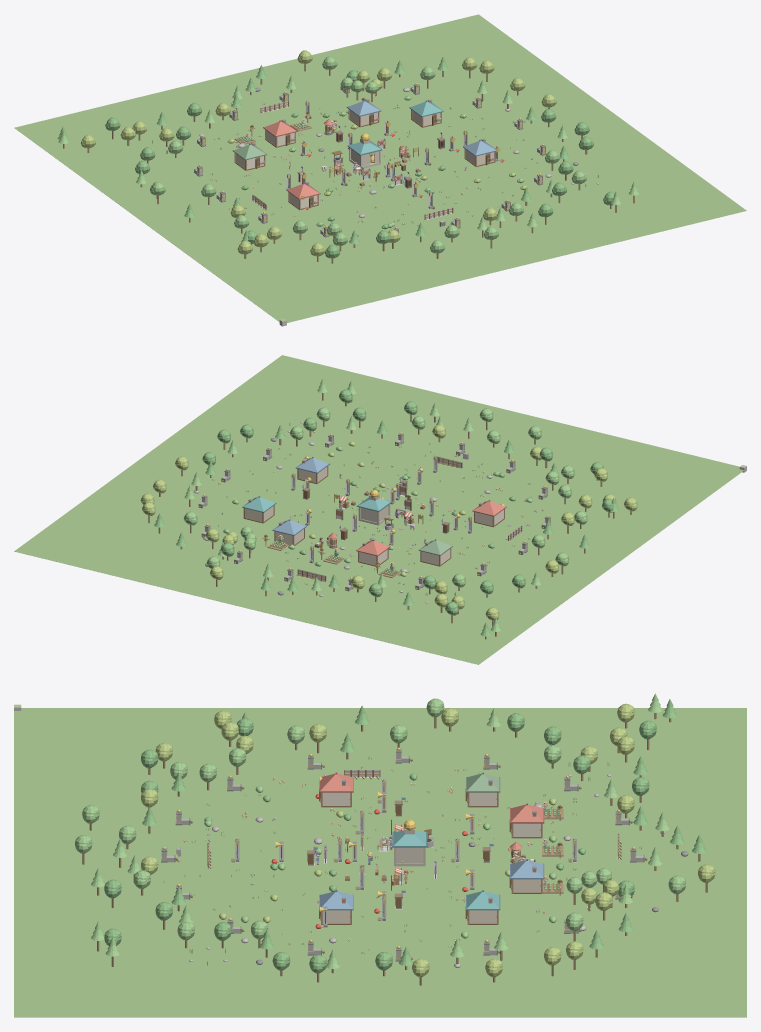
File: village.glb
The picture shows the model from 3 angles, top to bottom: view 1: azimuth 30°, elevation 25°; view 2: azimuth 150°, elevation 25°; view 3: azimuth 270°, elevation 25°; orthographic projection. The views are drawn at different scales.
Parts seen in each view (by area): view 1: ground, decor_props_merged; view 2: ground, decor_props_merged; view 3: ground, decor_props_merged, library_01__intact_merged, house_03__intact_merged, house_05__intact_merged.
Part boxes in pixels (x1,y1,x2,y2): ground: [14, 14, 746, 322]; decor_props_merged: [57, 50, 639, 263]; ground: [14, 355, 743, 664]; decor_props_merged: [140, 379, 637, 639]; ground: [14, 708, 746, 1017]; decor_props_merged: [75, 693, 715, 985]; library_01__intact_merged: [394, 847, 425, 866]; house_03__intact_merged: [467, 780, 498, 807]; house_05__intact_merged: [511, 811, 542, 838].
Size of the model in its own units: 100 by 6.57 by 100.
